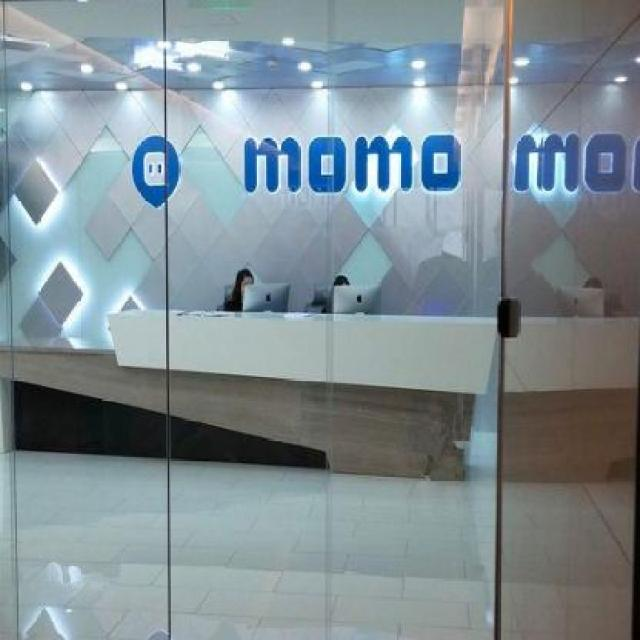frontdesk: (0, 308, 640, 489)
